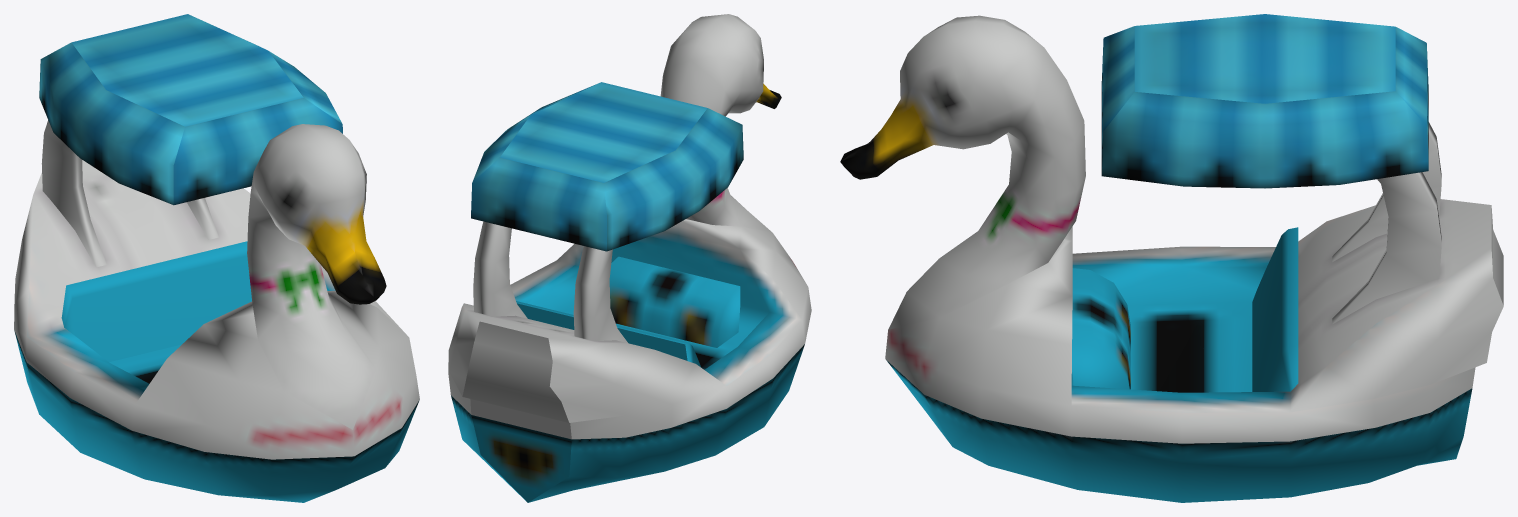
File: boat-swan.glb
The picture shows the model from 3 angles, left to right: view 1: azimuth 30°, elevation 25°; view 2: azimuth 150°, elevation 25°; view 3: azimuth 270°, elevation 25°; orthographic projection. The views are drawn at different scales.
Visible parts, largest first — view 1: Object_6; view 2: Object_6; view 3: Object_6.
Part boxes in pixels (x1=…): Object_6: x1=14, y1=14, x2=419, y2=502; Object_6: x1=448, y1=14, x2=811, y2=502; Object_6: x1=840, y1=14, x2=1503, y2=502.
Size of the model in its own units: 1.44 by 1.83 by 2.38.
1 material, 1 textured.
